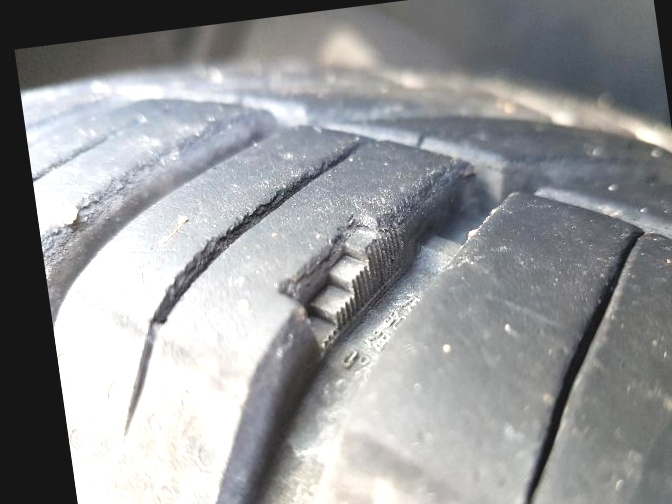temoin:90: (256, 189, 441, 374)
